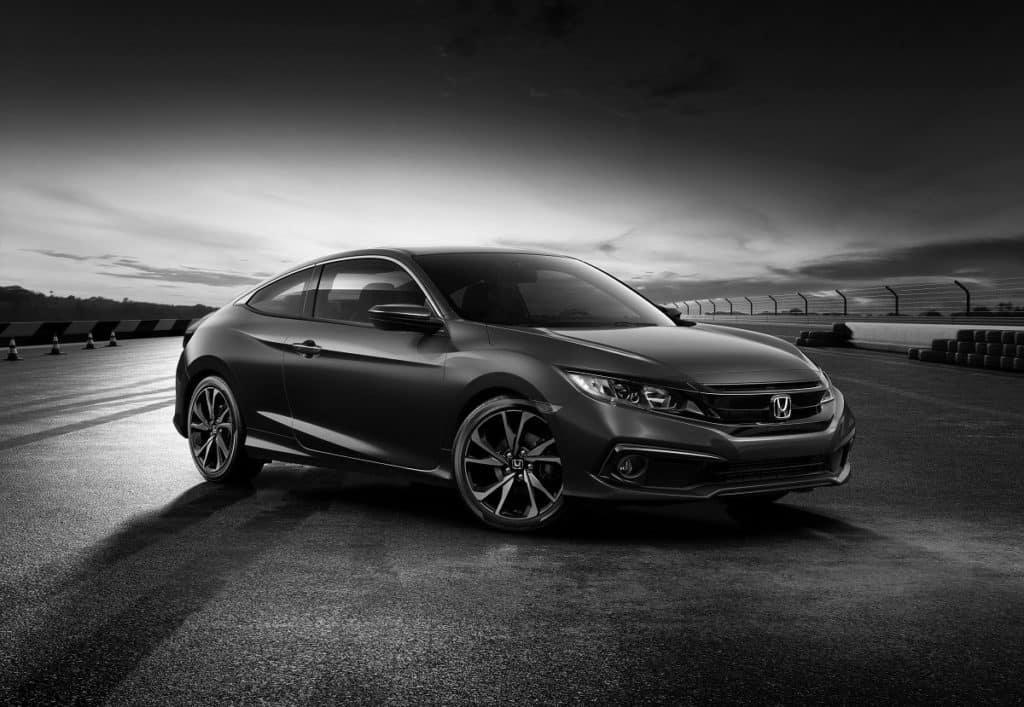Car hood: (478, 320, 826, 388), (0, 227, 142, 245)
Driver-s door - -F-R-: (279, 246, 443, 467), (441, 313, 583, 485)
Fender - -R-R-: (184, 316, 293, 460)
Front bumper: (552, 411, 865, 509)
Headlight - -L-: (807, 358, 847, 393)
Headlight - -R-: (551, 356, 712, 423)
Rear bumper: (168, 352, 199, 442)
Rear light - -R-: (179, 305, 219, 351)
Side bumper - -R-: (237, 422, 463, 488)
Side mirror - -L-: (653, 297, 689, 327)
Side mirror - -R-: (367, 298, 454, 341)
